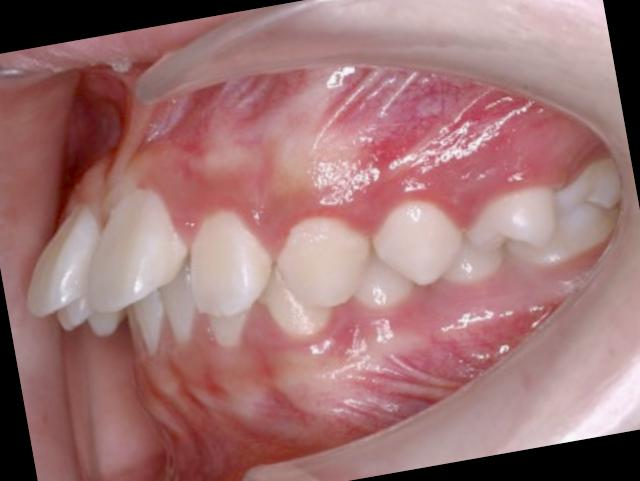canine class I: (245, 190, 422, 358)
molar class I: (497, 150, 633, 290)
